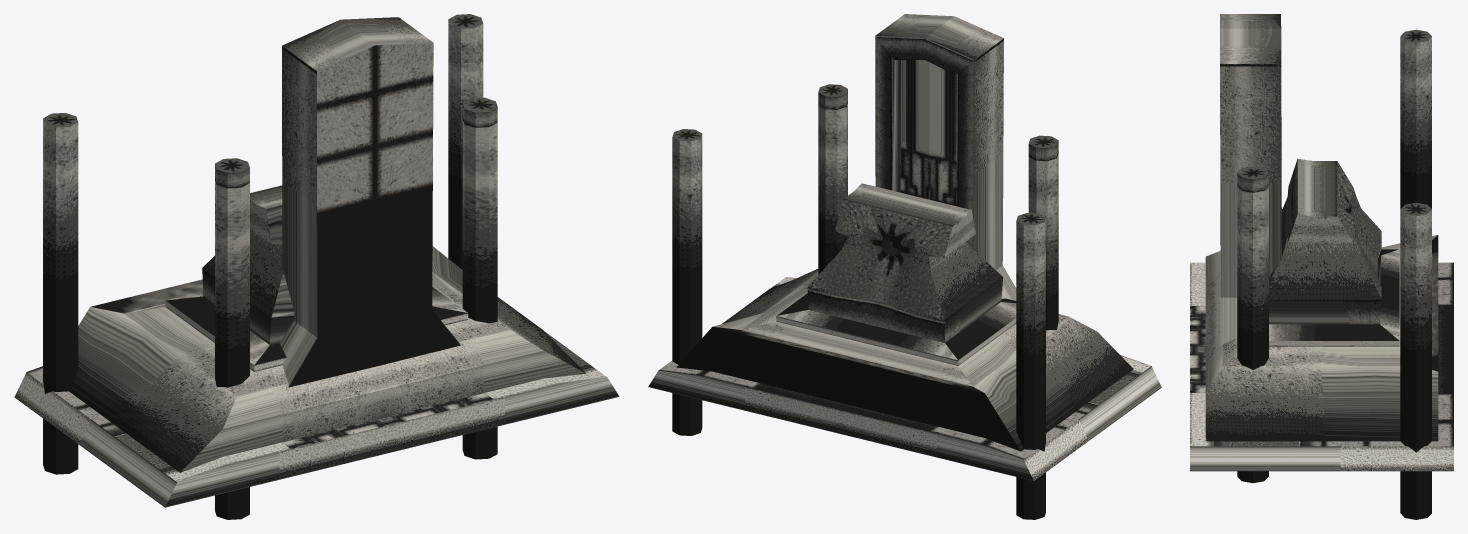
The model's file is AltarPower2.fbx.
3 renders of one model, left to right at view 1: azimuth 30°, elevation 25°; view 2: azimuth 150°, elevation 25°; view 3: azimuth 270°, elevation 25°, orthographic. The views are drawn at different scales.
Visible parts, largest first — view 1: altar.learn.power2; view 2: altar.learn.power2; view 3: altar.learn.power2.
Part boxes in pixels (x1=…): altar.learn.power2: x1=14, y1=14, x2=619, y2=519; altar.learn.power2: x1=648, y1=14, x2=1161, y2=519; altar.learn.power2: x1=1190, y1=14, x2=1453, y2=519.
Bounding box in the file's own units: 850 × 812 × 488.
